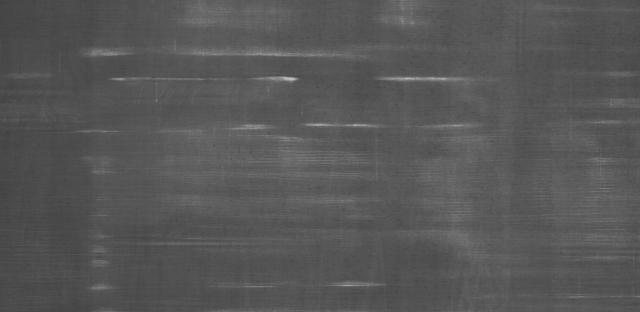waist_folding: (66, 16, 575, 309)
